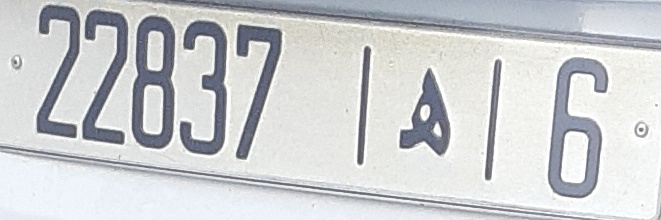2: (81, 7, 128, 147), (34, 3, 81, 138)
3: (179, 16, 228, 157)
6: (546, 55, 611, 202)
7: (235, 20, 284, 164)
8: (130, 12, 178, 152)
h: (396, 65, 455, 159)
